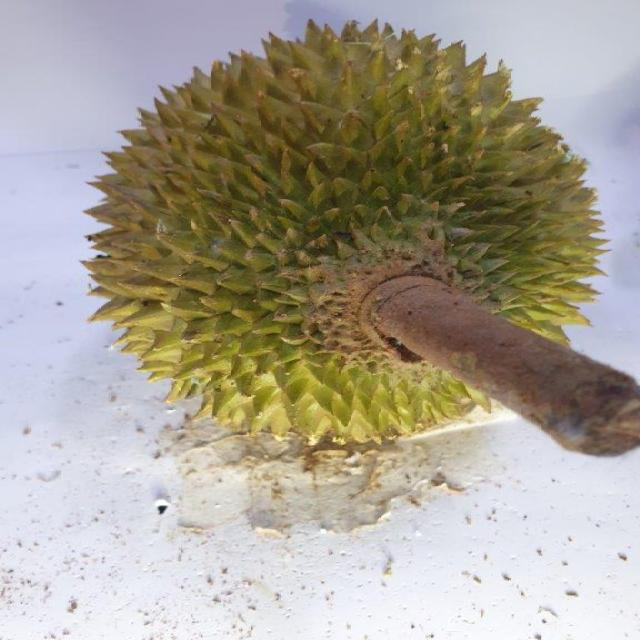immature: (78, 8, 615, 450)
